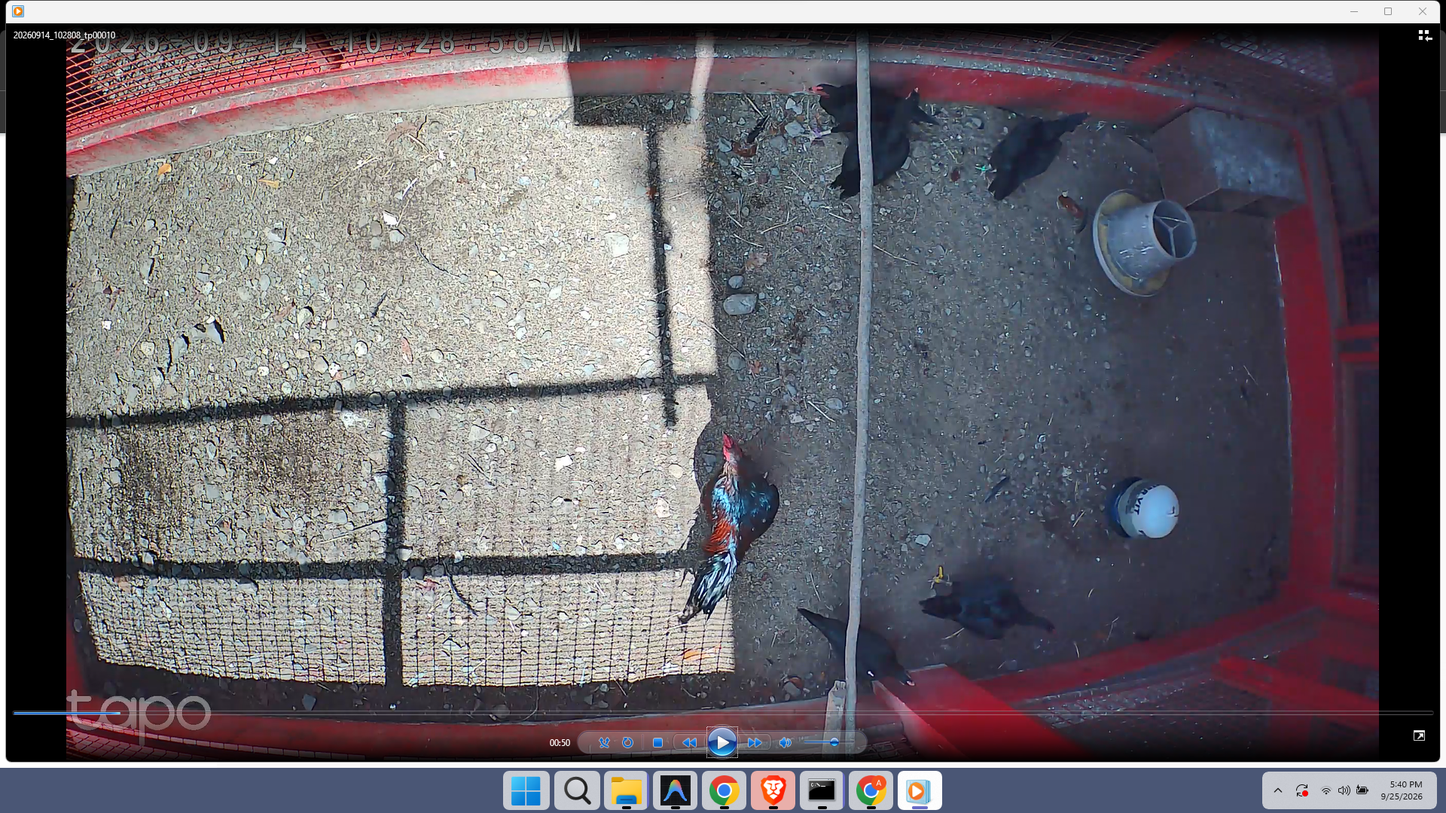Chicken: (916, 567, 1069, 649), (791, 603, 923, 690), (973, 109, 1095, 203), (830, 83, 919, 200), (798, 80, 941, 149)
Drinker: (1106, 476, 1182, 545)
Feeder: (1092, 188, 1199, 299)
Rooster: (680, 432, 780, 634)
